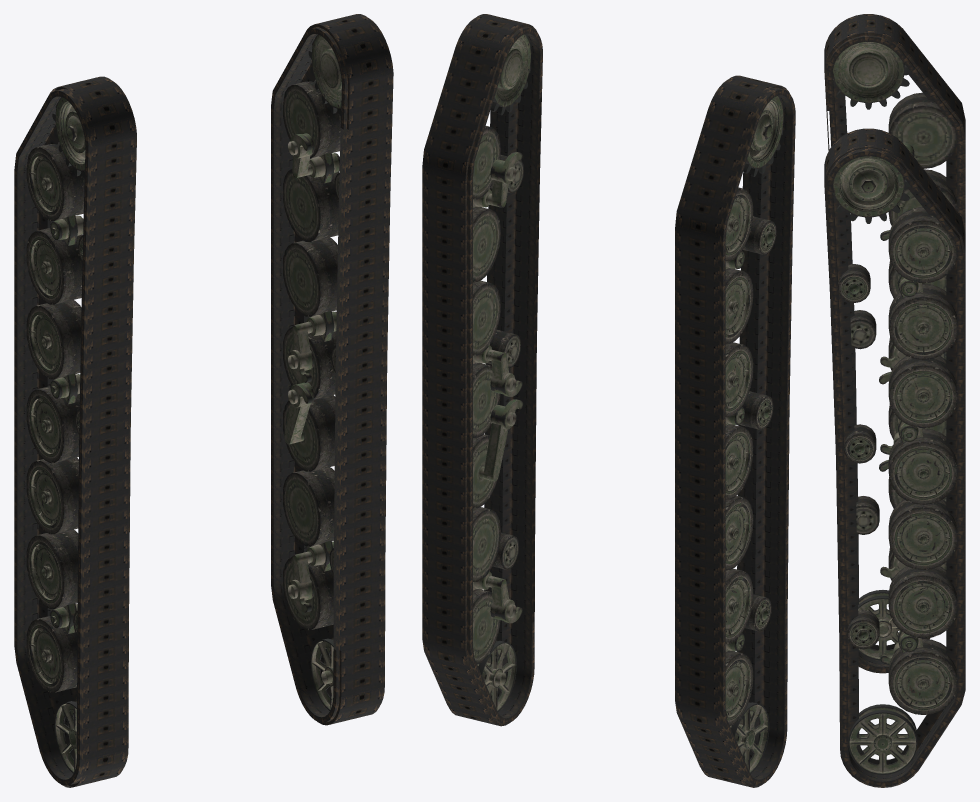
File: Chassis.glb
3 renders of one model, left to right at view 1: azimuth 30°, elevation 25°; view 2: azimuth 150°, elevation 25°; view 3: azimuth 270°, elevation 25°, orthographic. The views are drawn at different scales.
Visible parts, largest first — view 1: set_1_group_0, set_0_group_0, set_3_group_0, set_2_group_0; view 2: set_1_group_0, set_0_group_0, set_3_group_0, set_2_group_0; view 3: set_3_group_0, set_0_group_0, set_2_group_0, set_1_group_0.
Boxes of the visible parts, x1,y1,x2,y2 form: set_1_group_0: (14, 76, 136, 787); set_0_group_0: (271, 14, 393, 725); set_3_group_0: (283, 34, 341, 710); set_2_group_0: (26, 97, 85, 773); set_1_group_0: (675, 75, 795, 787); set_0_group_0: (422, 14, 542, 726); set_3_group_0: (473, 34, 531, 711); set_2_group_0: (725, 96, 783, 773); set_3_group_0: (832, 156, 957, 774); set_0_group_0: (824, 128, 965, 787); set_2_group_0: (832, 42, 957, 660); set_1_group_0: (824, 14, 965, 673).
Bounding box in the file's own units: 2.82 × 6.19 × 1.24.
Materials: 4 (4 with a texture image).
